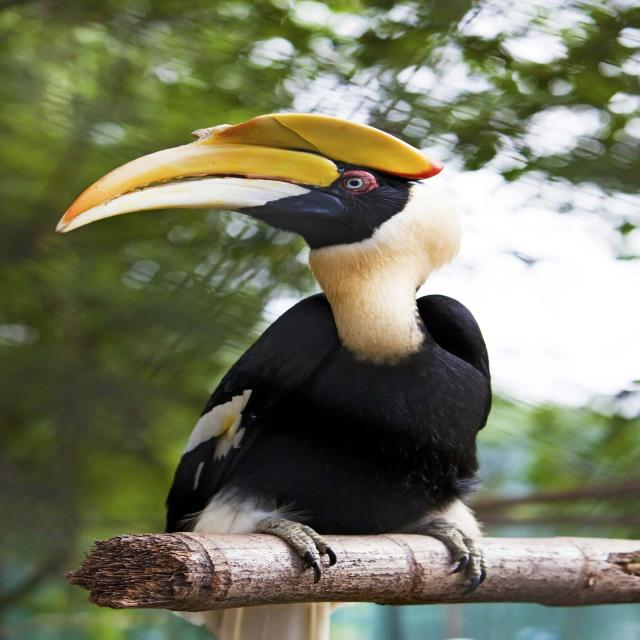Hornbill: (45, 107, 506, 568)
